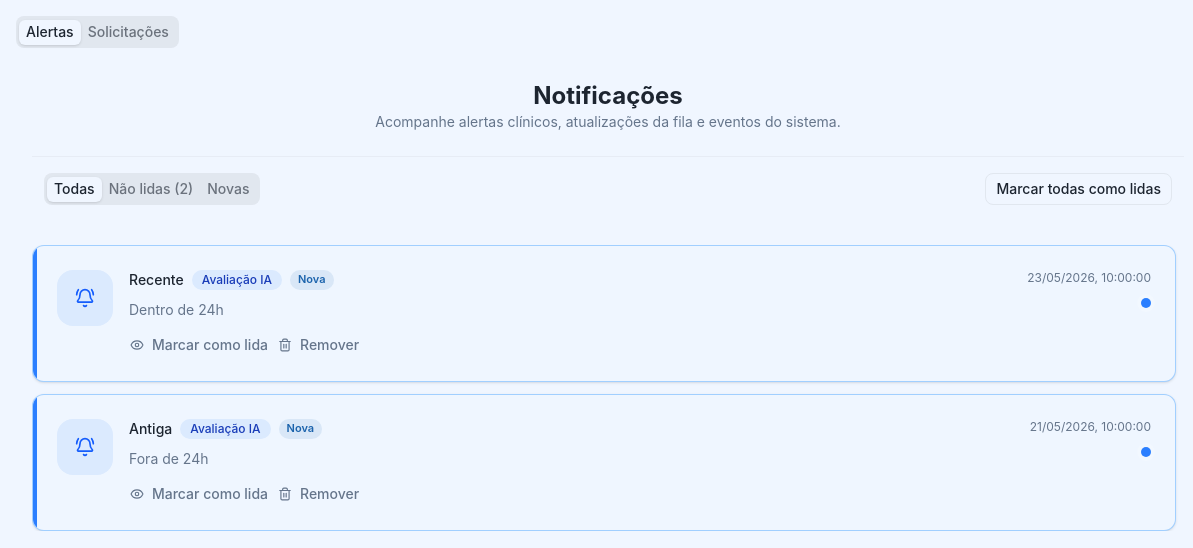
Test case: Notificacoes Route › deve filtrar notificações novas das últimas 24 horas ao trocar para a aba novas
Click the tab "Novas" at (228, 189), box [200, 176, 256, 202]
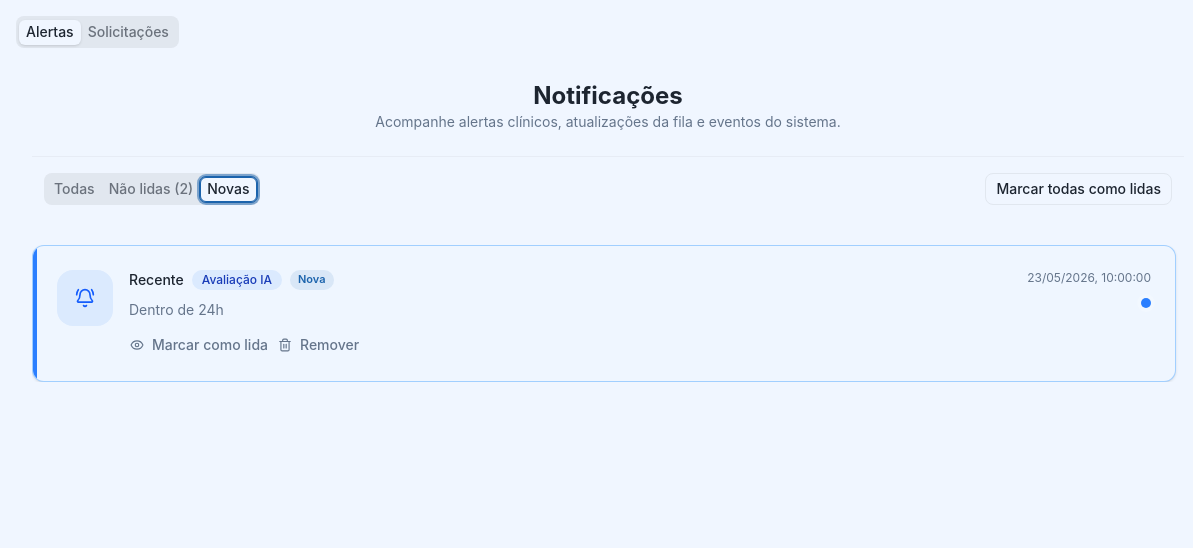
Expected: the text "Recente" is shown, [129, 270, 184, 290]
Expected: the text "Antiga" is gone
